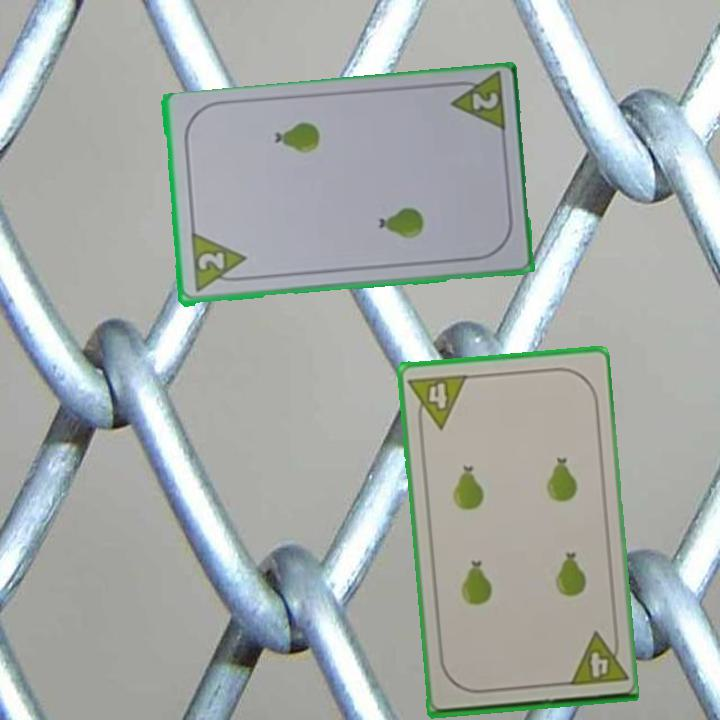2p: (443, 71, 508, 136), (194, 248, 227, 273)
4p: (405, 370, 470, 433), (564, 628, 629, 689)
